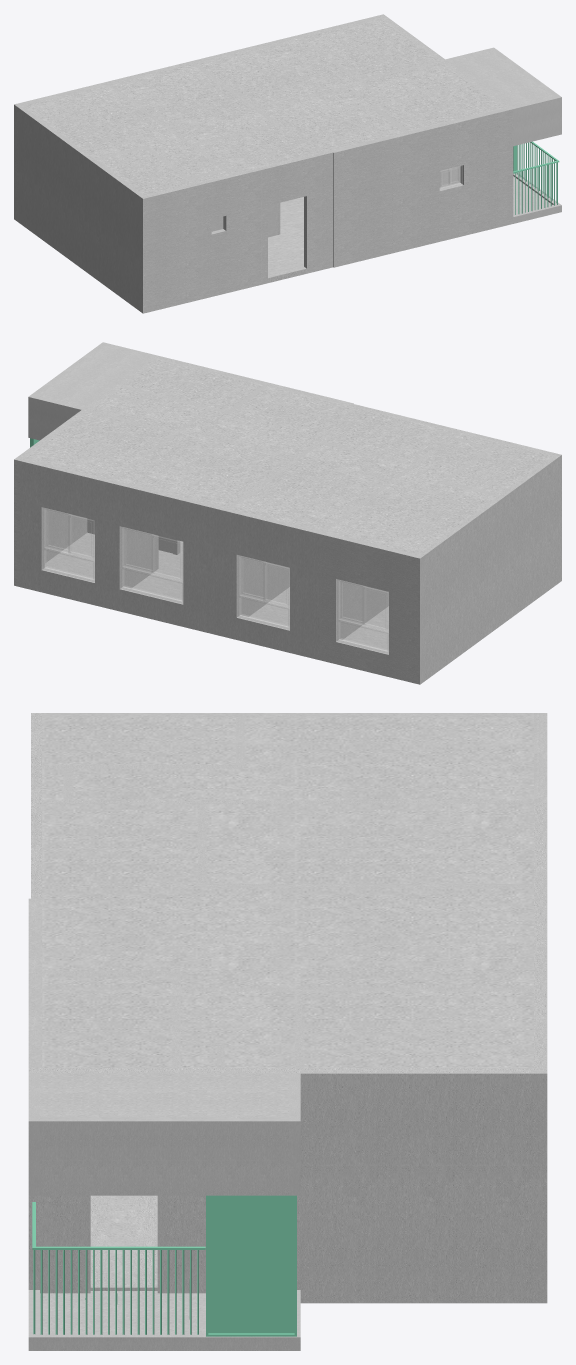
Rendered from threeBR-2-only.gltf.
The picture shows the model from 3 angles, top to bottom: view 1: azimuth 30°, elevation 25°; view 2: azimuth 150°, elevation 25°; view 3: azimuth 270°, elevation 25°; orthographic projection. The views are drawn at different scales.
Size of the model in its own units: 12.96 by 3.4 by 6.96.
3 materials, 1 textured.
